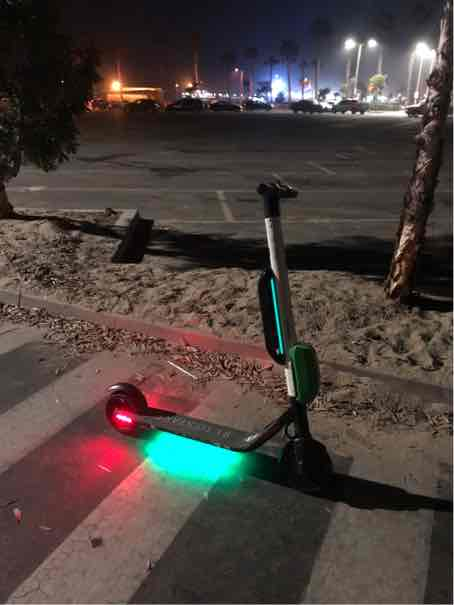scooter: (95, 165, 342, 499)
